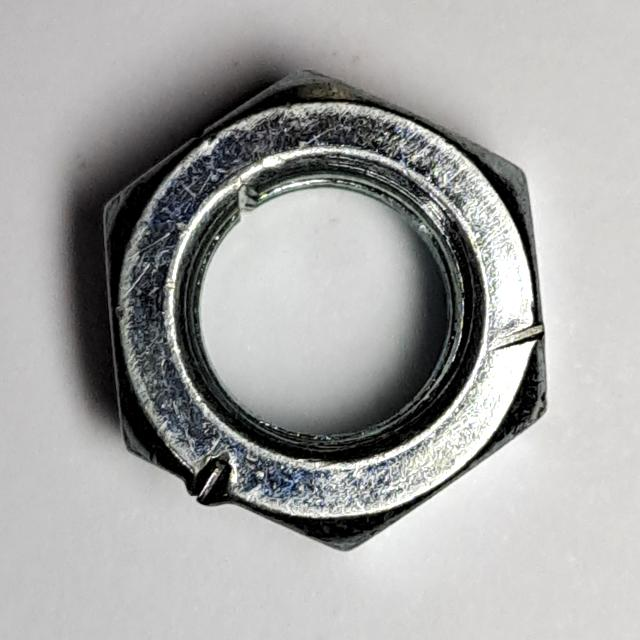Scratches: (94, 62, 560, 566)
